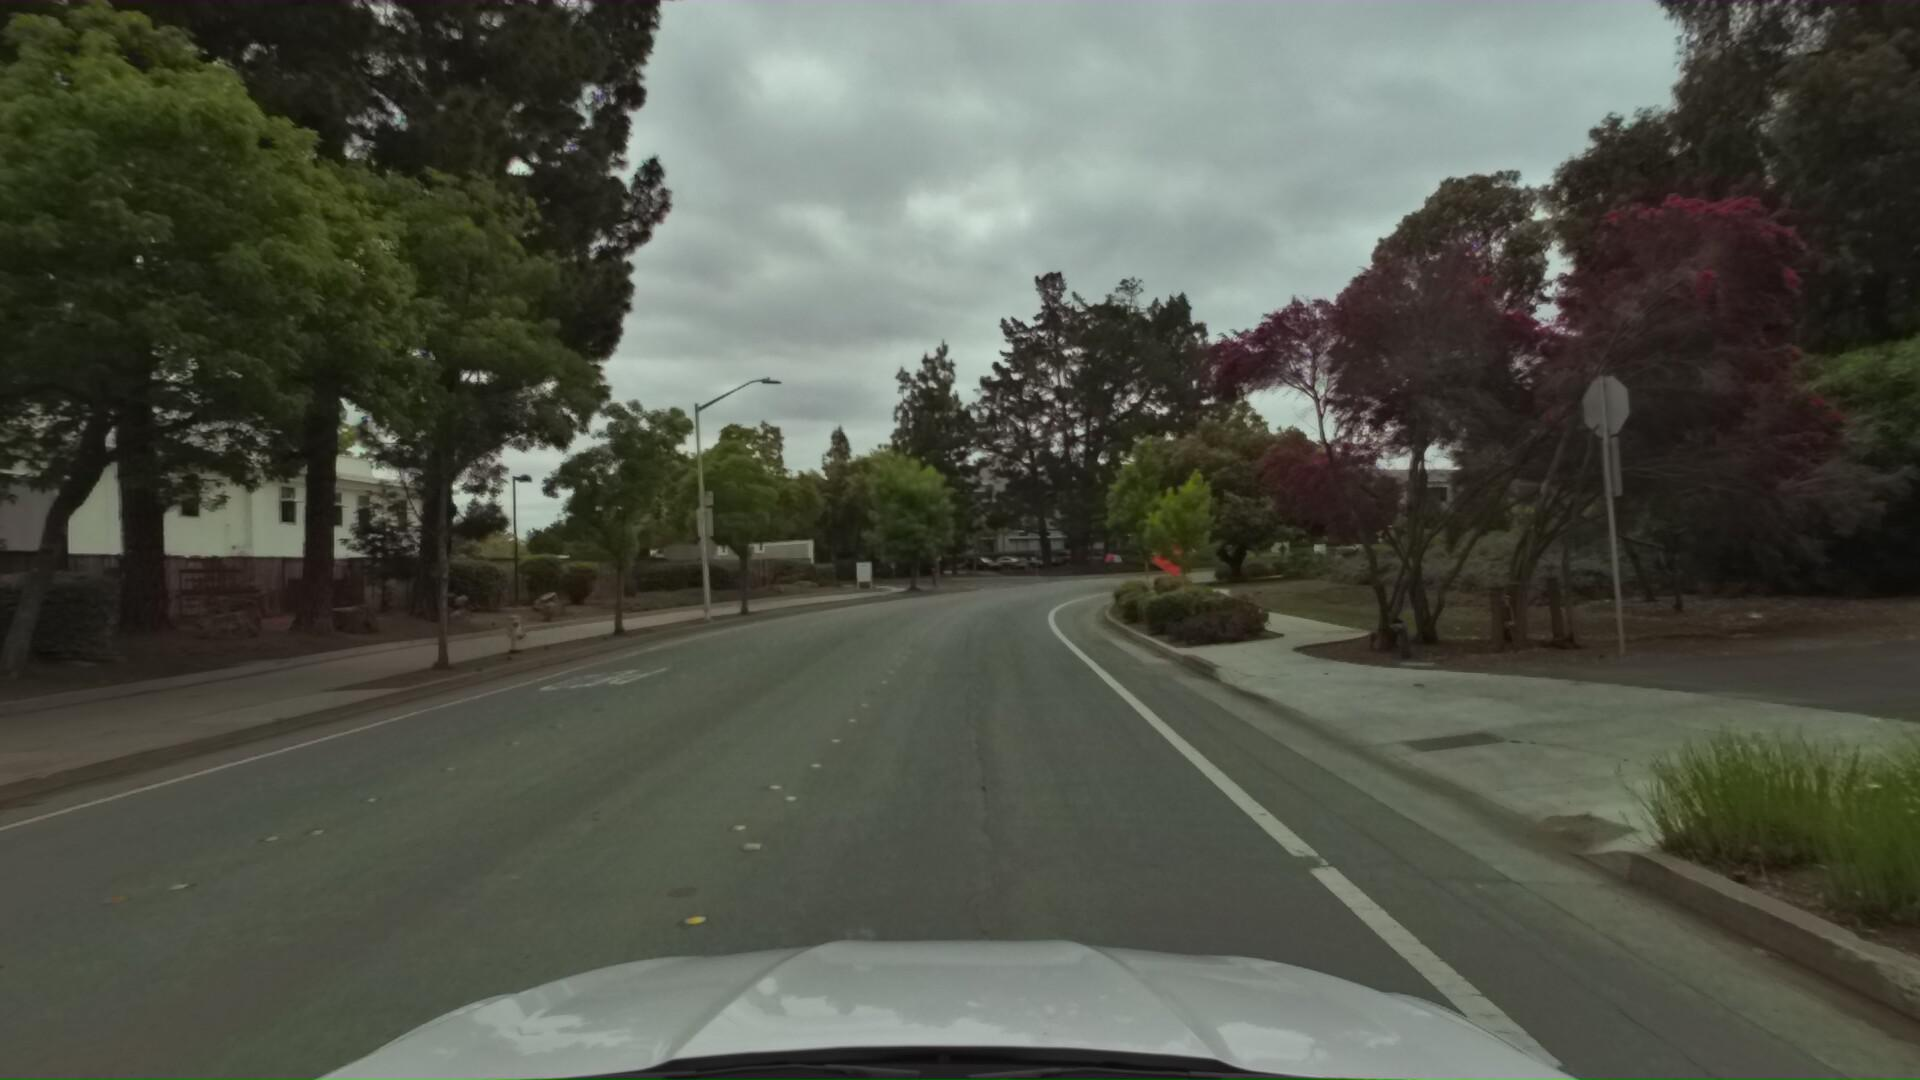bicycle: (1085, 549, 1127, 589)
truck: (0, 438, 59, 669)
